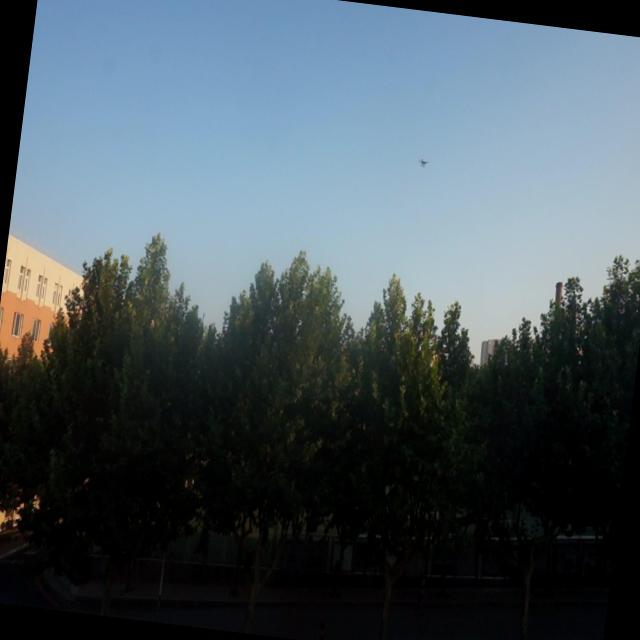drone: (414, 150, 429, 172)
